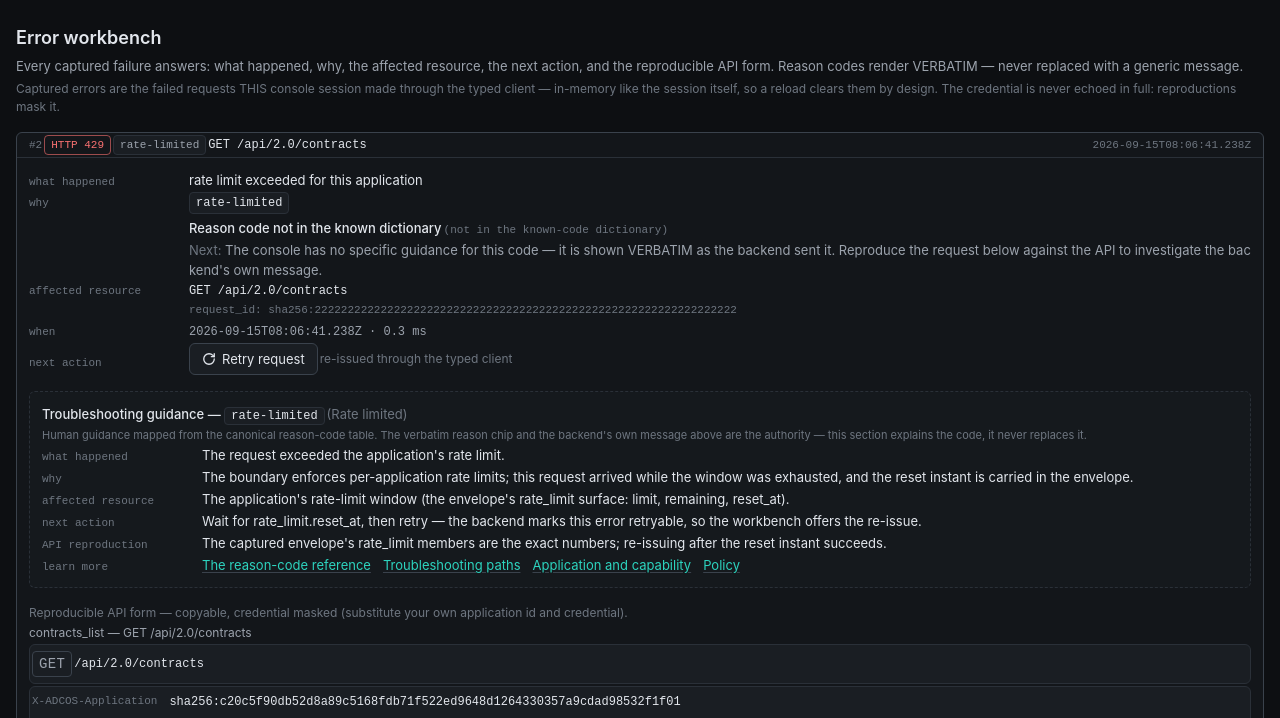
Test: Error workbench › retries through the typed client when the backend marked the error retryable, and reports the outcome
Expected: the 1st text with test id "workbench-reason" reads "rate-limited", [120, 139, 199, 151]
Expected: the text "(not in the known-code dictionary)" is shown, [444, 224, 668, 236]
Click the button with test id "workbench-retry" at (253,359), box [189, 343, 318, 375]
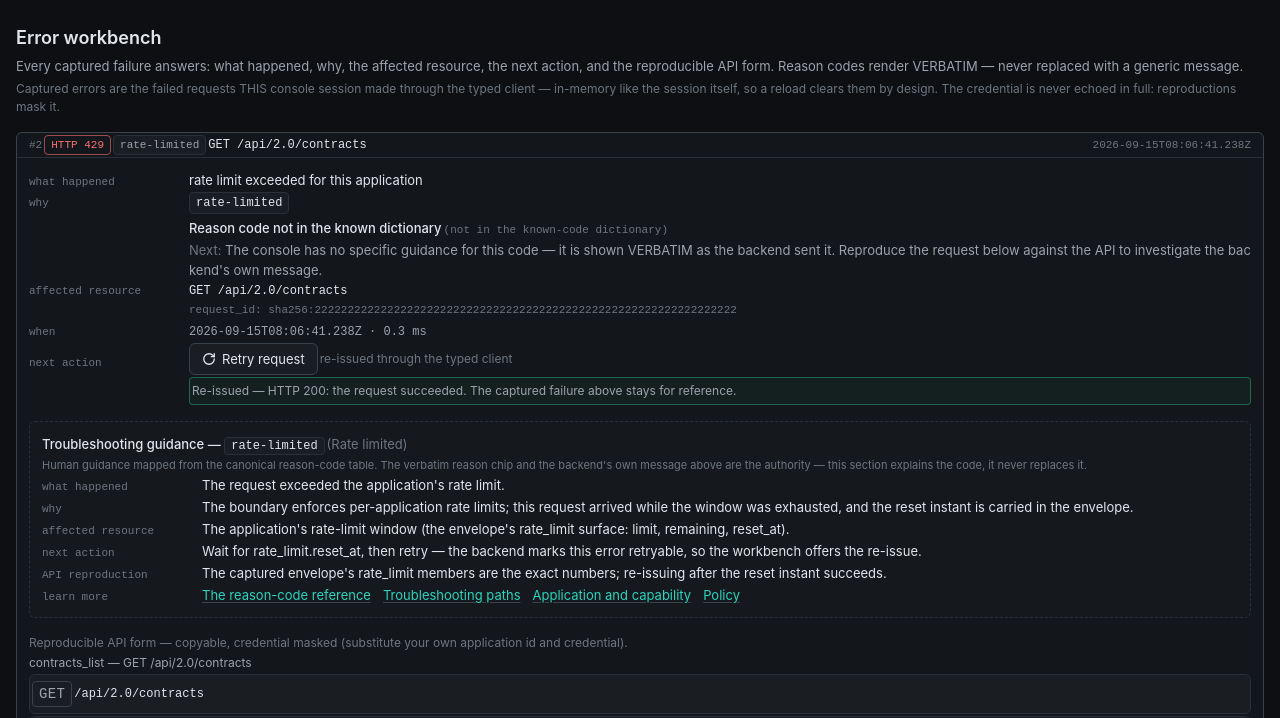
Expected: the text "Re-issued — HTTP 200" is shown, [189, 377, 1251, 405]
Expected: the text "the request succeeded" is shown, [326, 383, 737, 398]
